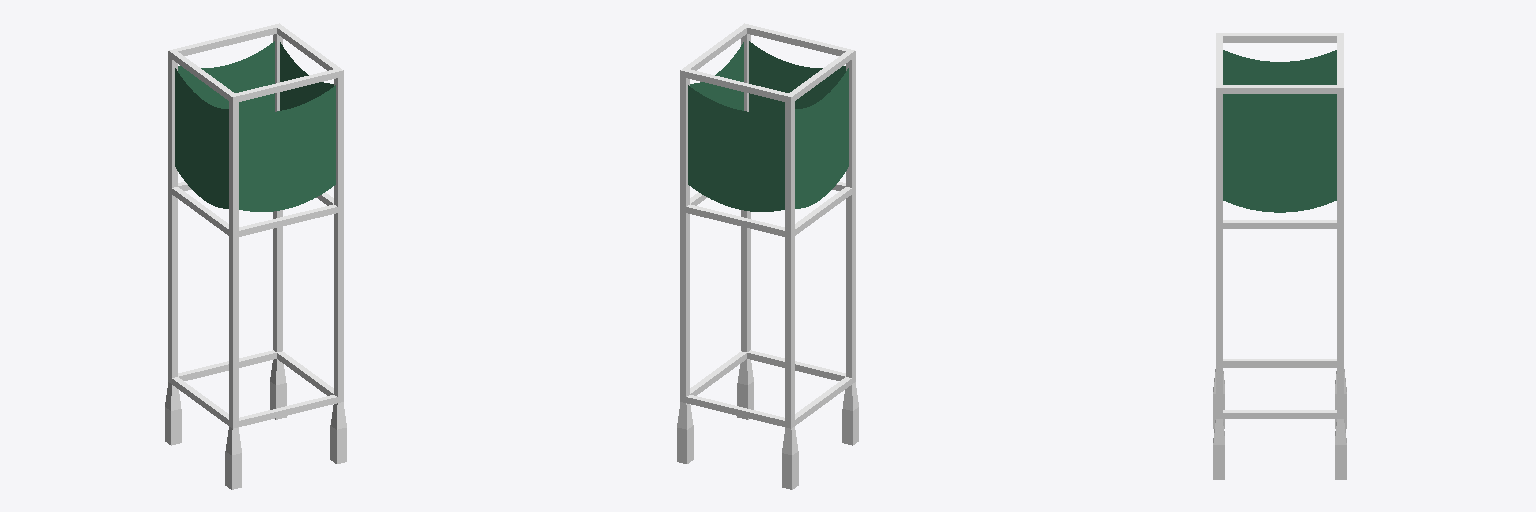
Rendered from bannerTowerGreen.obj.
3 renders of one model, left to right at view 1: azimuth 30°, elevation 25°; view 2: azimuth 150°, elevation 25°; view 3: azimuth 270°, elevation 25°, orthographic.
Parts seen in each view (by area): view 1: bannerTowerGreen; view 2: bannerTowerGreen; view 3: bannerTowerGreen.
Part boxes in pixels (x1,y1,x2,y2): bannerTowerGreen: (165, 23, 346, 489); bannerTowerGreen: (677, 23, 858, 489); bannerTowerGreen: (1213, 33, 1346, 479).
Size of the model in its own units: 0.3852 by 1.25 by 0.3852.